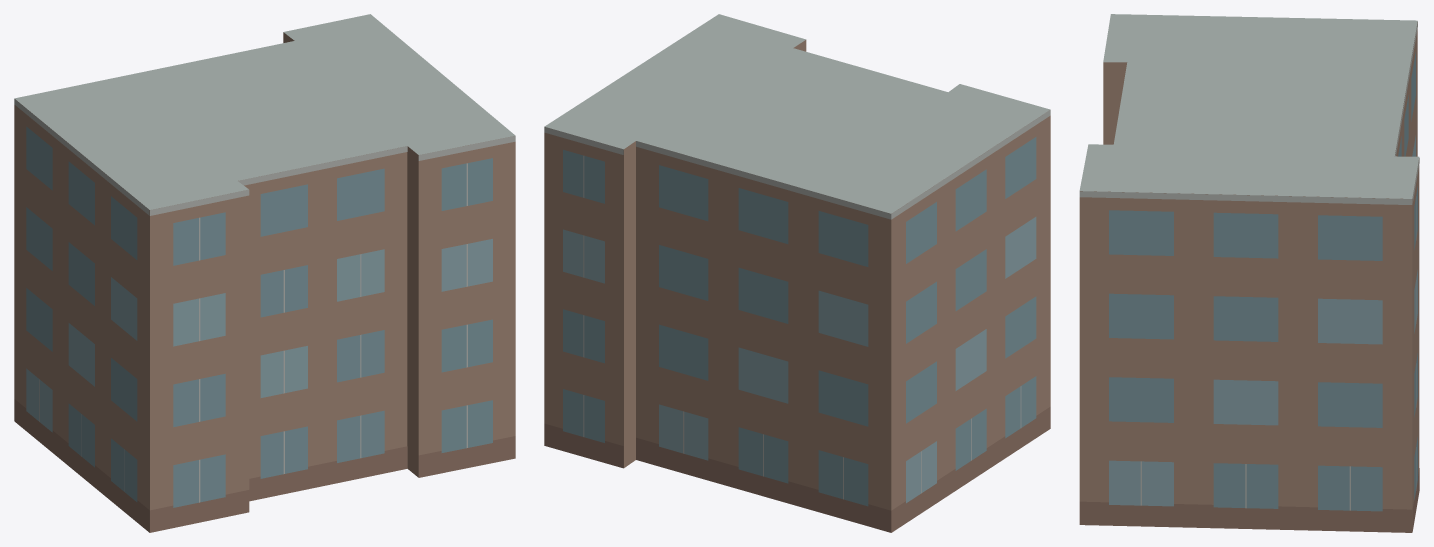
Rendered from survey-upis-32595464.glb.
3 views of the same model, side by side, from view 1: azimuth 30°, elevation 25°; view 2: azimuth 150°, elevation 25°; view 3: azimuth 270°, elevation 25° (orthographic). The views are drawn at different scales.
Visible parts, largest first — view 1: survey-upis-32595464.tmp; view 2: survey-upis-32595464.tmp; view 3: survey-upis-32595464.tmp.
Part boxes in pixels (x1,y1,x2,y2): survey-upis-32595464.tmp: (14, 14, 515, 532); survey-upis-32595464.tmp: (544, 14, 1050, 532); survey-upis-32595464.tmp: (1079, 14, 1419, 532).
Size of the model in its own units: 15.75 by 13.25 by 12.24.
